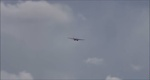maybay_muctieu: (66, 34, 85, 42)
